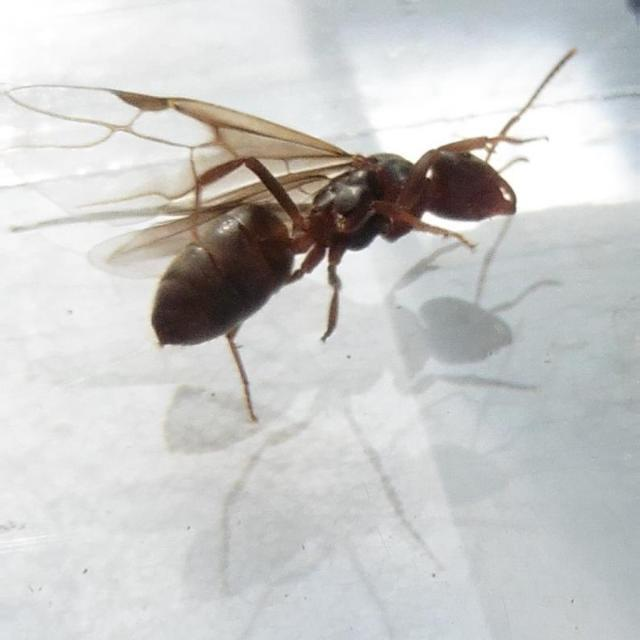Lasius: (32, 20, 574, 370)
